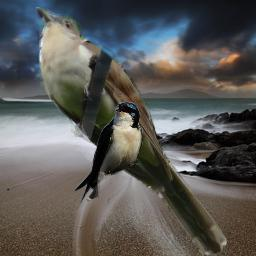Cuckoo: (36, 7, 227, 256)
Swallow: (74, 102, 143, 204)
